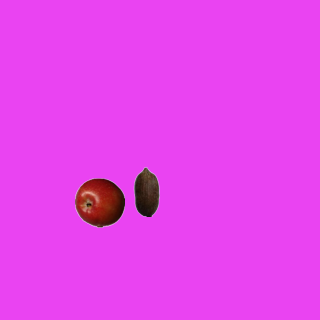Apple Braeburn: (74, 177, 124, 227)
Nut Pecan: (121, 166, 171, 216)
